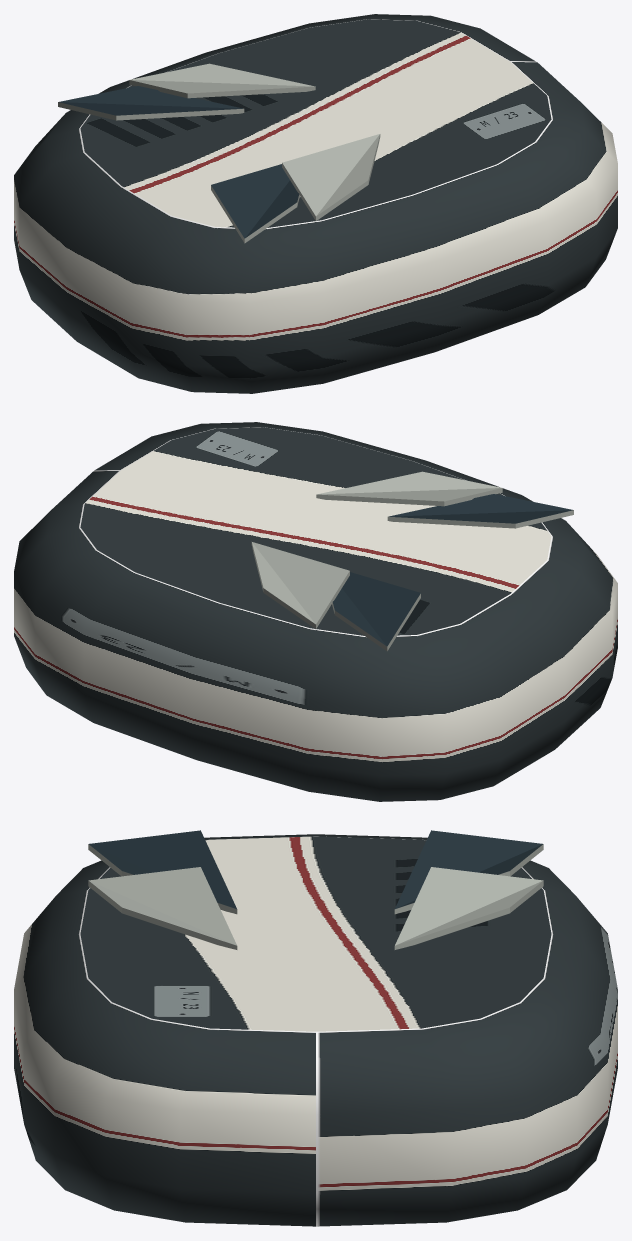
The model's file is MotorCowl_23_SR_白帆・墨返し.glb.
The picture shows the model from 3 angles, top to bottom: view 1: azimuth 30°, elevation 25°; view 2: azimuth 150°, elevation 25°; view 3: azimuth 270°, elevation 25°; orthographic projection. The views are drawn at different scales.
Parts seen in each view (by area): view 1: MotorCowl_23_SR; view 2: MotorCowl_23_SR; view 3: MotorCowl_23_SR.
Part boxes in pixels (<box>): MotorCowl_23_SR: <box>14,14,617,393</box>; MotorCowl_23_SR: <box>14,422,617,801</box>; MotorCowl_23_SR: <box>14,830,617,1226</box>.
Size of the model in its own units: 0.332 by 0.1194 by 0.286.
2 materials, 2 textured.
